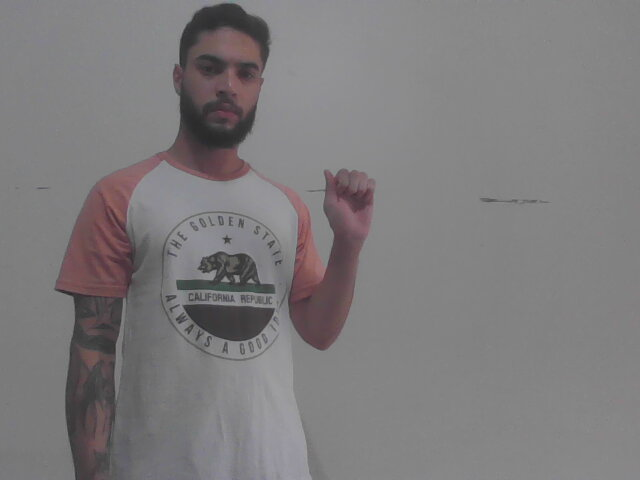a: (320, 163, 382, 243)
